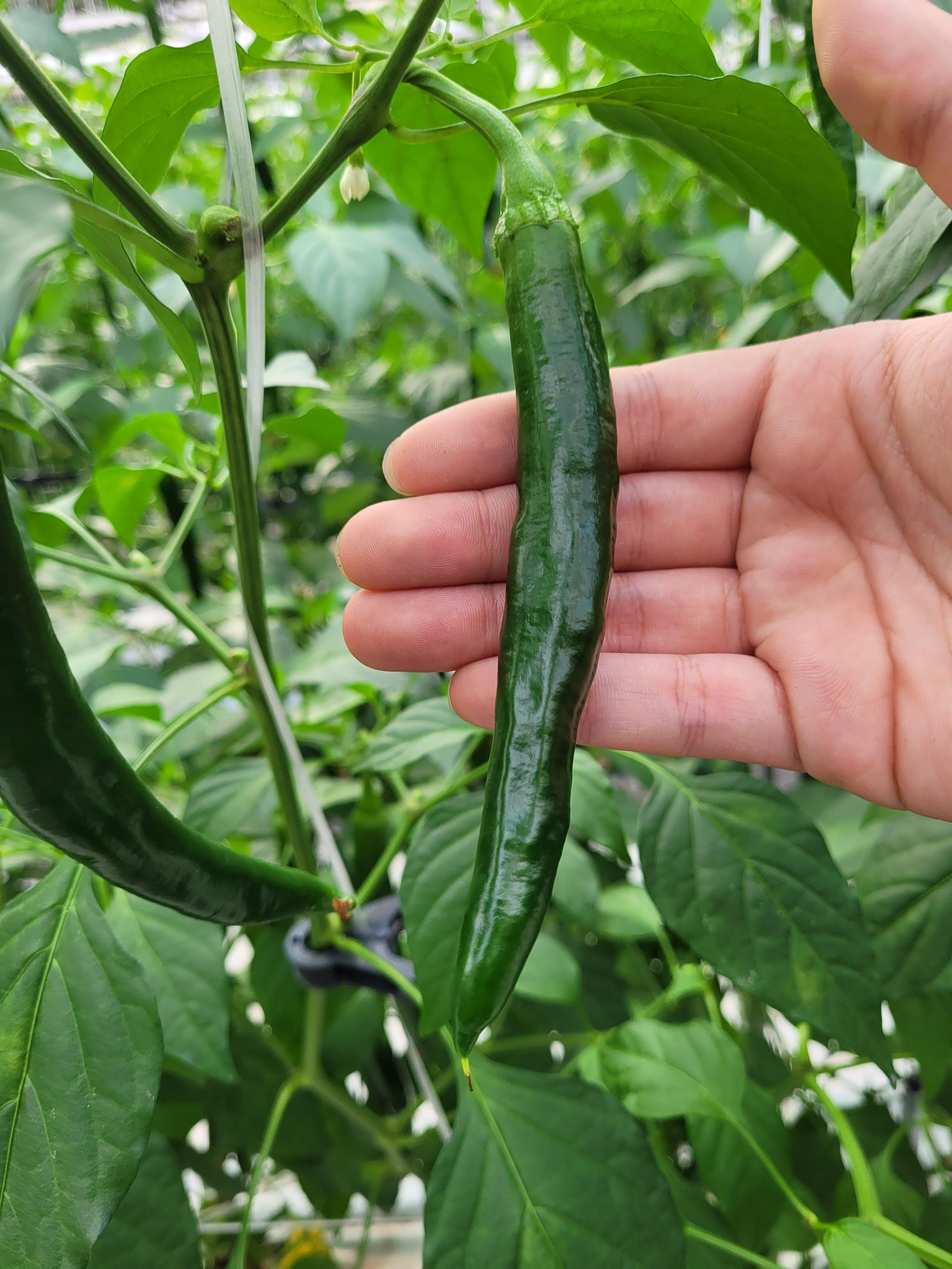Buah Cabai Sehat: (445, 206, 621, 1066)
